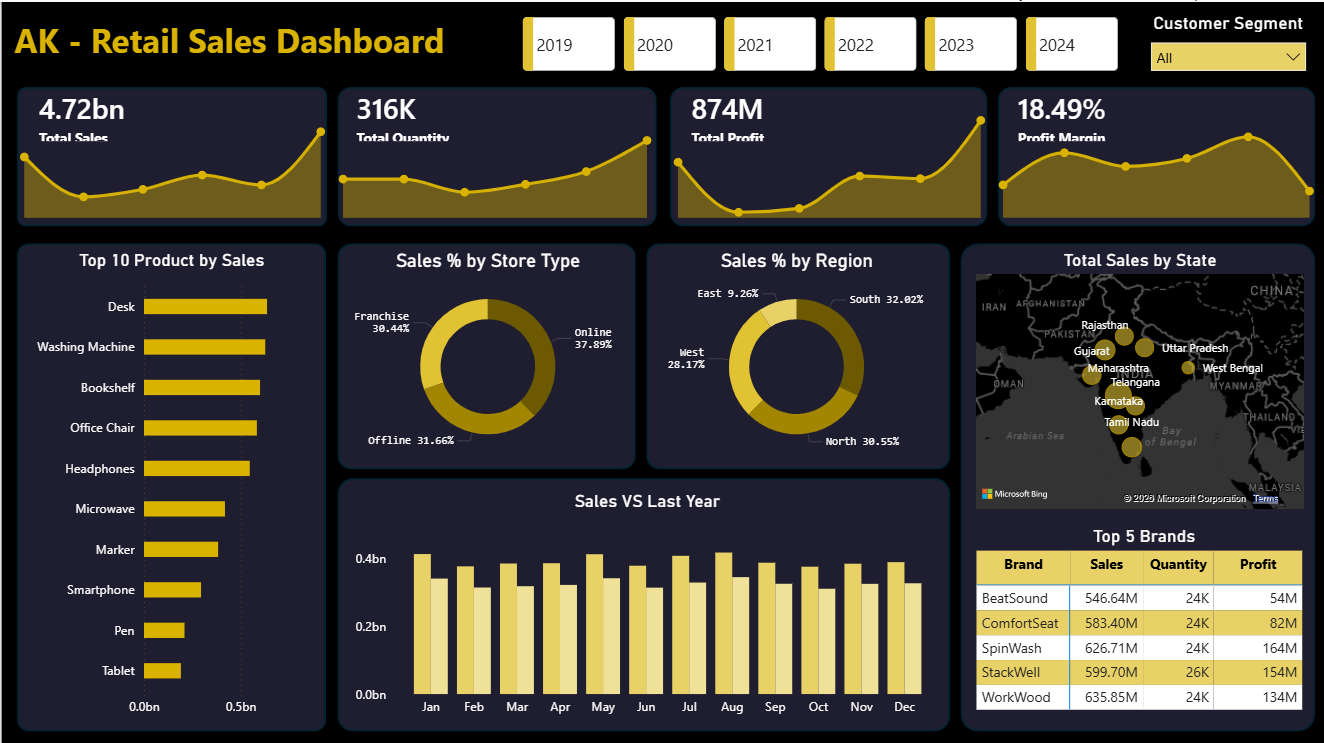

The page's visual inventory and layout, read from the dashboard file:
{"tool":"powerbi","page":{"name":"Page 1","canvas":[1280,720],"ordinal":0},"visuals":[{"type":"textbox","box":[9.7,9.7,469.3,62.7],"z":0},{"type":"cardVisual","fields":{"Data":["1_Measures.Total Sales"]},"box":[9.7,72.4,148.4,79.6],"z":1000},{"type":"cardVisual","fields":{"Data":["1_Measures.Total Quantity"]},"box":[316.1,72.4,155.6,79.6],"z":2000},{"type":"cardVisual","fields":{"Data":["1_Measures.Total Profit"]},"box":[639.4,72.4,143.6,79.6],"z":3000},{"type":"cardVisual","fields":{"Data":["1_Measures.Profit Margin"]},"box":[954.3,72.4,155.6,79.6],"z":4000},{"type":"areaChart","fields":{"Category":["Calender Table.Year"],"Y":["1_Measures.Total Sales"]},"box":[9.7,95.3,316.1,118.2],"z":5000},{"type":"donutChart","title":"Sales % by Store Type","fields":{"Y":["1_Measures.Total Sales"],"Category":["Dim_Store.StoreType"]},"box":[330,238.6,282.9,205.7],"z":9000},{"type":"donutChart","title":"Sales % by Region","fields":{"Y":["1_Measures.Total Sales"],"Category":["Dim_Customer.Region"]},"box":[628.6,238.6,282.9,205.7],"z":10000},{"type":"clusteredColumnChart","title":"Sales VS Last Year","fields":{"Category":["Calender Table.Month Name"],"Y":["1_Measures.Total Sales","1_Measures.Sales LY"]},"box":[338.9,472,573.6,226.4],"z":11000},{"type":"map","fields":{"Category":["Dim_Store.State"],"Size":["1_Measures.Total Sales"]},"box":[938.6,238.6,325.7,255.7],"z":12000},{"type":"pivotTable","title":"Top 5 Brands","fields":{"Rows":["Dim_Product.Brand"],"Values":["1_Measures.Total Sales","1_Measures.Total Quantity","1_Measures.Total Profit"]},"box":[938.6,505,333.4,193.5],"z":13000},{"type":"advancedSlicerVisual","fields":{"Values":["Calender Table.Year"]},"box":[500.7,9.7,587.5,62.7],"z":14000},{"type":"areaChart","fields":{"Category":["Calender Table.Year"],"Y":["1_Measures.Total Quantity"]},"box":[317.3,95.3,323.3,118.2],"z":14001},{"type":"areaChart","fields":{"Category":["Calender Table.Year"],"Y":["1_Measures.Total Profit"]},"box":[640.6,95.3,322.1,118.2],"z":14002},{"type":"areaChart","fields":{"Category":["Calender Table.Year"],"Y":["1_Measures.Profit Margin"]},"box":[954.3,112.2,325.7,101.3],"z":14003},{"type":"barChart","title":"Top 10 Product by Sales","fields":{"Y":["1_Measures.Total Sales"],"Category":["Dim_Product.ProductName"]},"box":[24.7,238.8,285.4,459.7],"z":14004},{"type":"slicer","title":"Customer Segment","fields":{"Values":["Dim_Customer.Segment"]},"box":[1101.5,9.7,170.1,62.7],"z":14005}]}

Visuals, with their boxes in screenshot pixels (x1, y1, x2, y2), scaled from the page's 1280x720 canvas onto the 1324x743 screenshot:
textbox: (10,10,495,75)
cardVisual - 1_Measures.Total Sales: (10,75,164,157)
cardVisual - 1_Measures.Total Quantity: (327,75,488,157)
cardVisual - 1_Measures.Total Profit: (661,75,810,157)
cardVisual - 1_Measures.Profit Margin: (987,75,1148,157)
areaChart - Calender Table.Year x 1_Measures.Total Sales: (10,98,337,220)
"Sales % by Store Type" donutChart: (341,246,634,458)
"Sales % by Region" donutChart: (650,246,943,458)
"Sales VS Last Year" clusteredColumnChart: (351,487,944,721)
map - Dim_Store.State x 1_Measures.Total Sales: (971,246,1308,510)
"Top 5 Brands" pivotTable: (971,521,1316,721)
advancedSlicerVisual - Calender Table.Year: (518,10,1126,75)
areaChart - Calender Table.Year x 1_Measures.Total Quantity: (328,98,663,220)
areaChart - Calender Table.Year x 1_Measures.Total Profit: (663,98,996,220)
areaChart - Calender Table.Year x 1_Measures.Profit Margin: (987,116,1323,220)
"Top 10 Product by Sales" barChart: (26,246,321,721)
"Customer Segment" slicer: (1139,10,1315,75)
